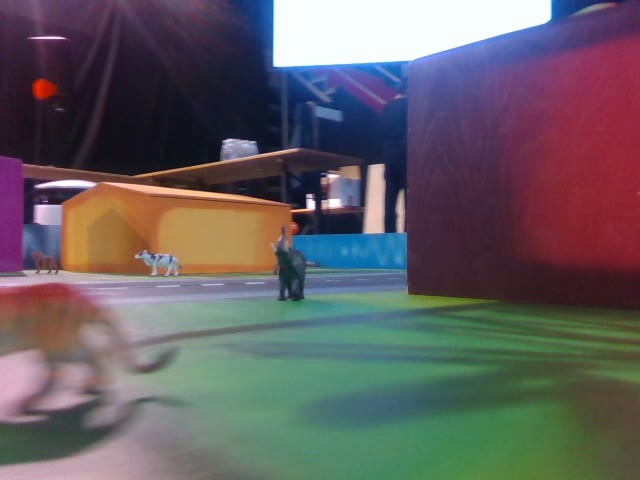toy: (271, 226, 307, 301), (133, 250, 182, 278), (27, 246, 60, 274)
